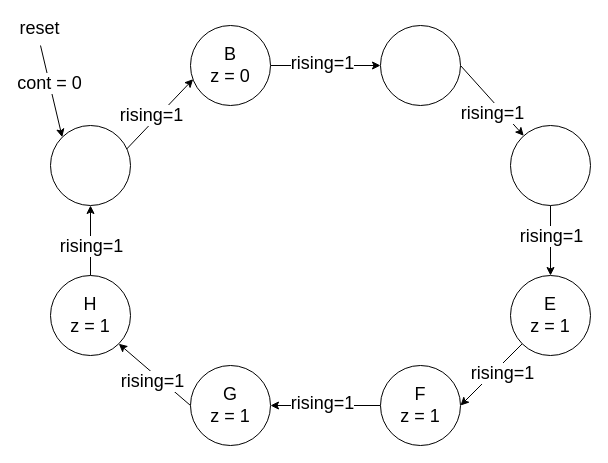
The diagram is 608 pixels wide and 463 high, and some of its shapes have lost their labels. Each missing label, with the box of its shape:
A z = 0: (50, 124, 130, 206)
C z = 1: (380, 24, 460, 106)
D z = 1: (510, 124, 590, 206)
